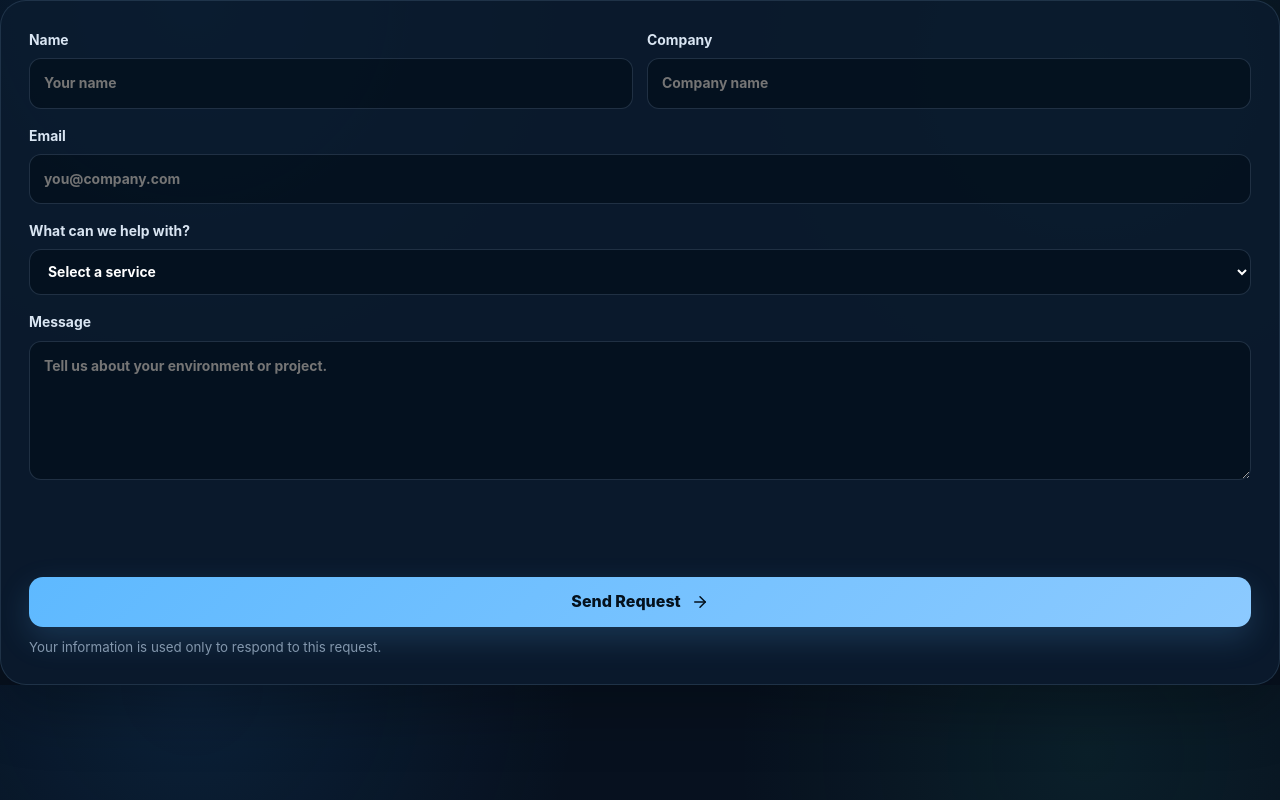
Test: ContactForm › blocks submission until CAPTCHA is complete
The image size is (1280, 800).
Type "Jane Smith" into the field labelled "Name" at coordinates (331, 83), box x1=29 y1=58 x2=633 y2=109
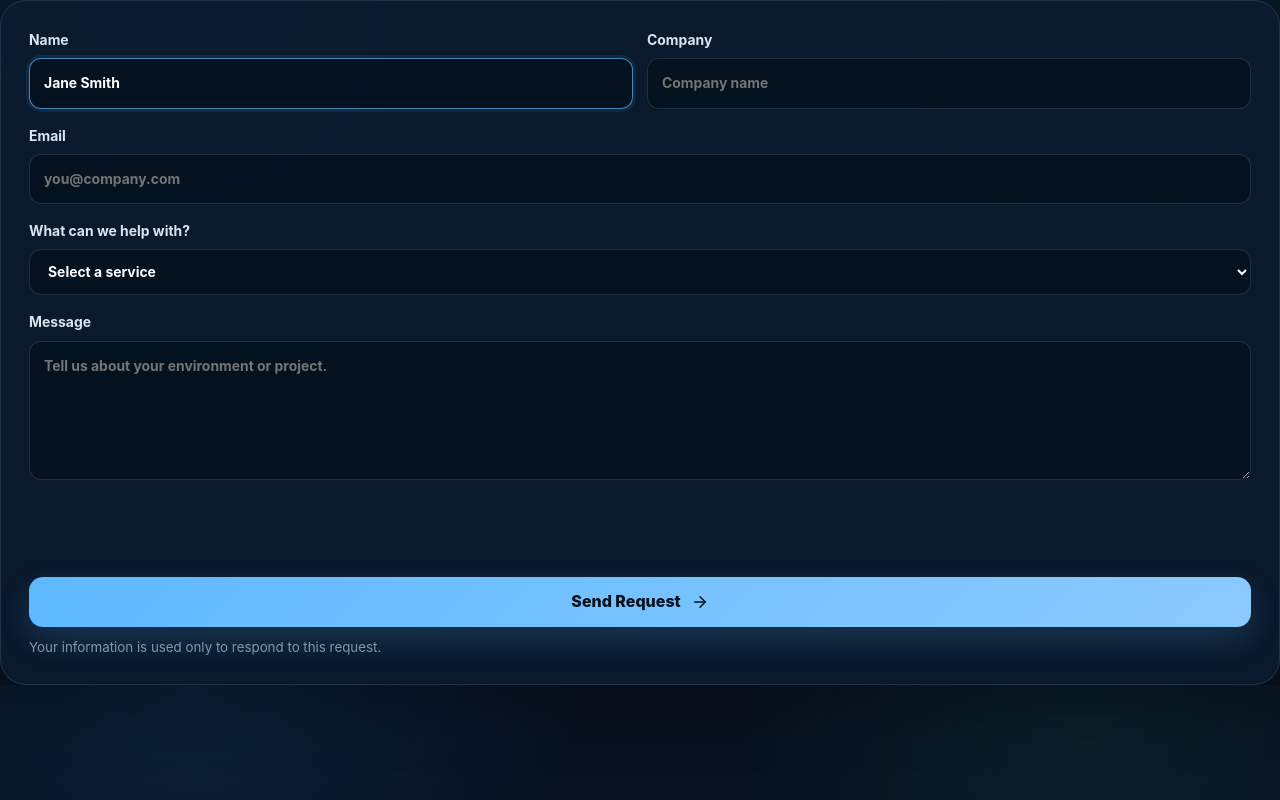
Type "Example Co" into the field labelled "Company" at coordinates (949, 83), box x1=647 y1=58 x2=1251 y2=109
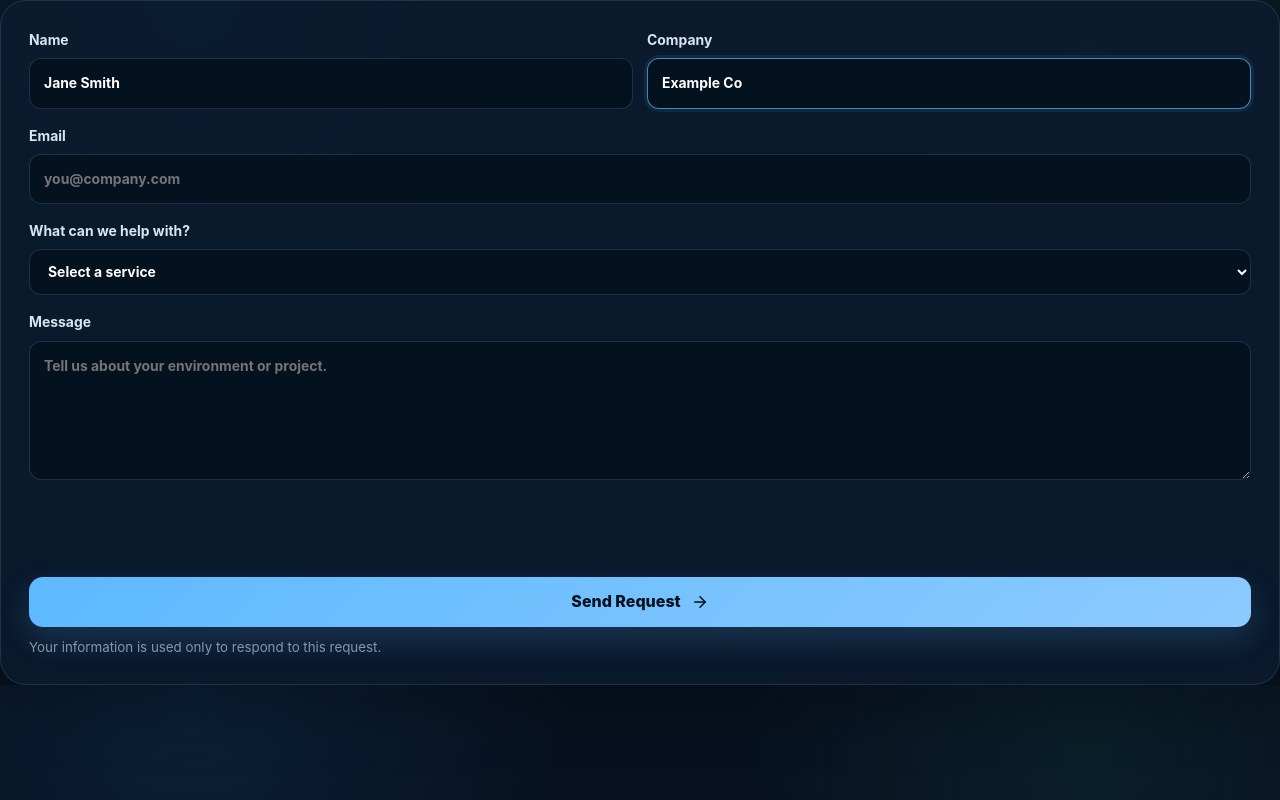
Type "jane@example.com" into the field labelled "Email" at coordinates (640, 179), box x1=29 y1=154 x2=1251 y2=204
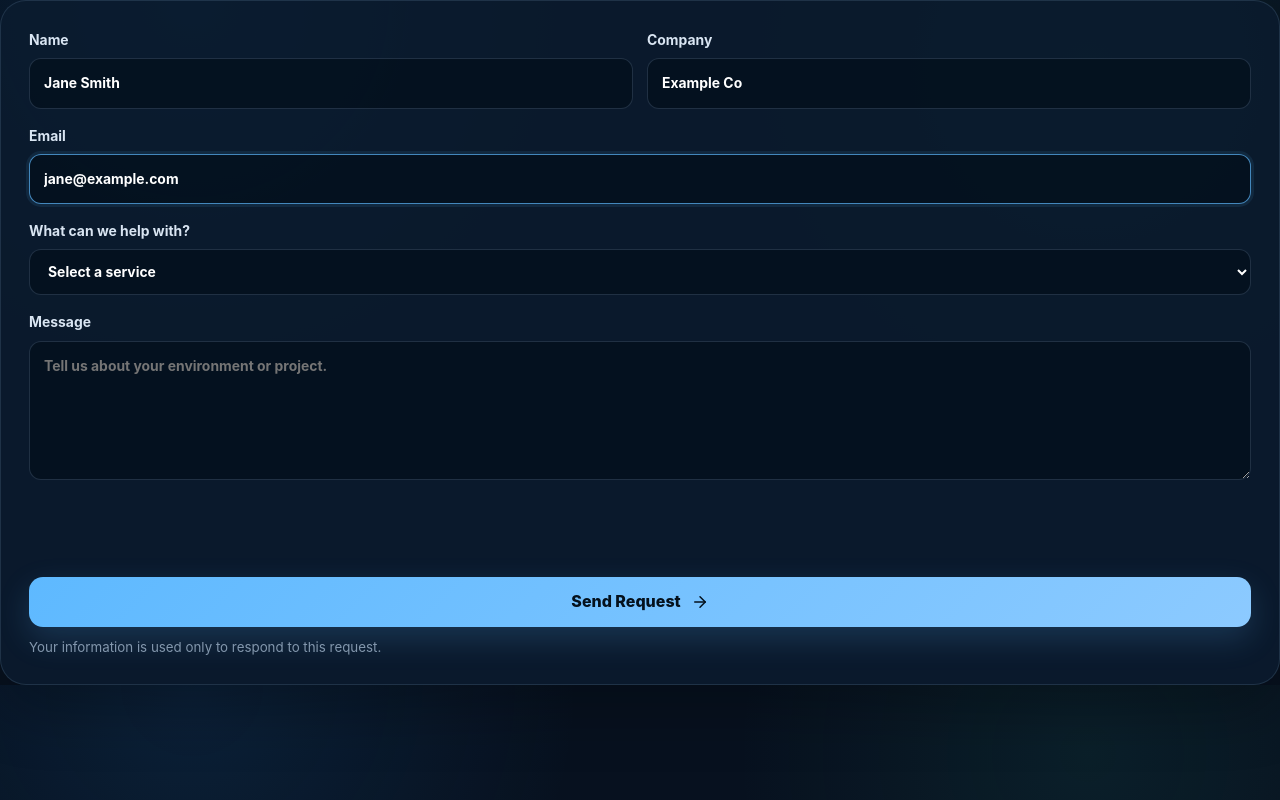
Select "Cloud Security" in the dropdown labelled "What can we help with?" at coordinates (640, 272), box x1=29 y1=249 x2=1251 y2=295
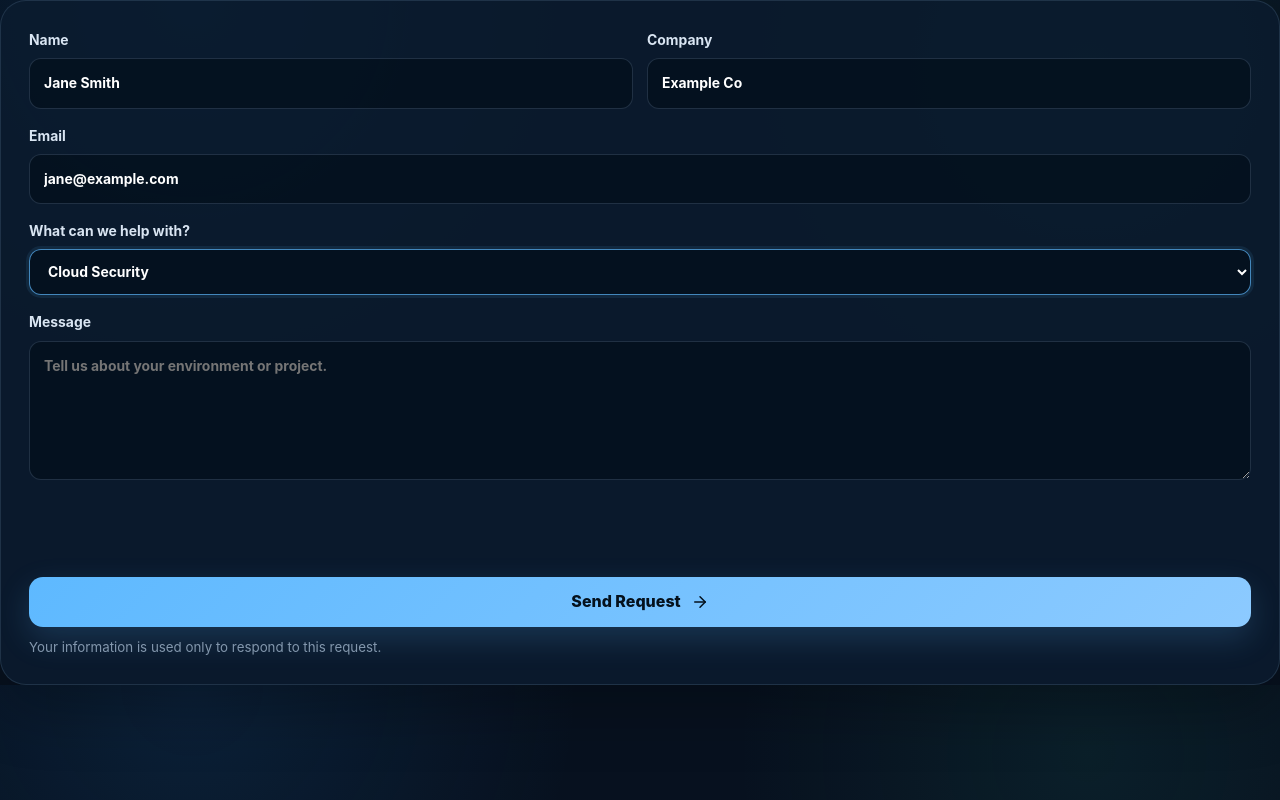
Type "Please review our AWS environment." into the text box labelled "Message" at coordinates (640, 410), box x1=29 y1=341 x2=1251 y2=480
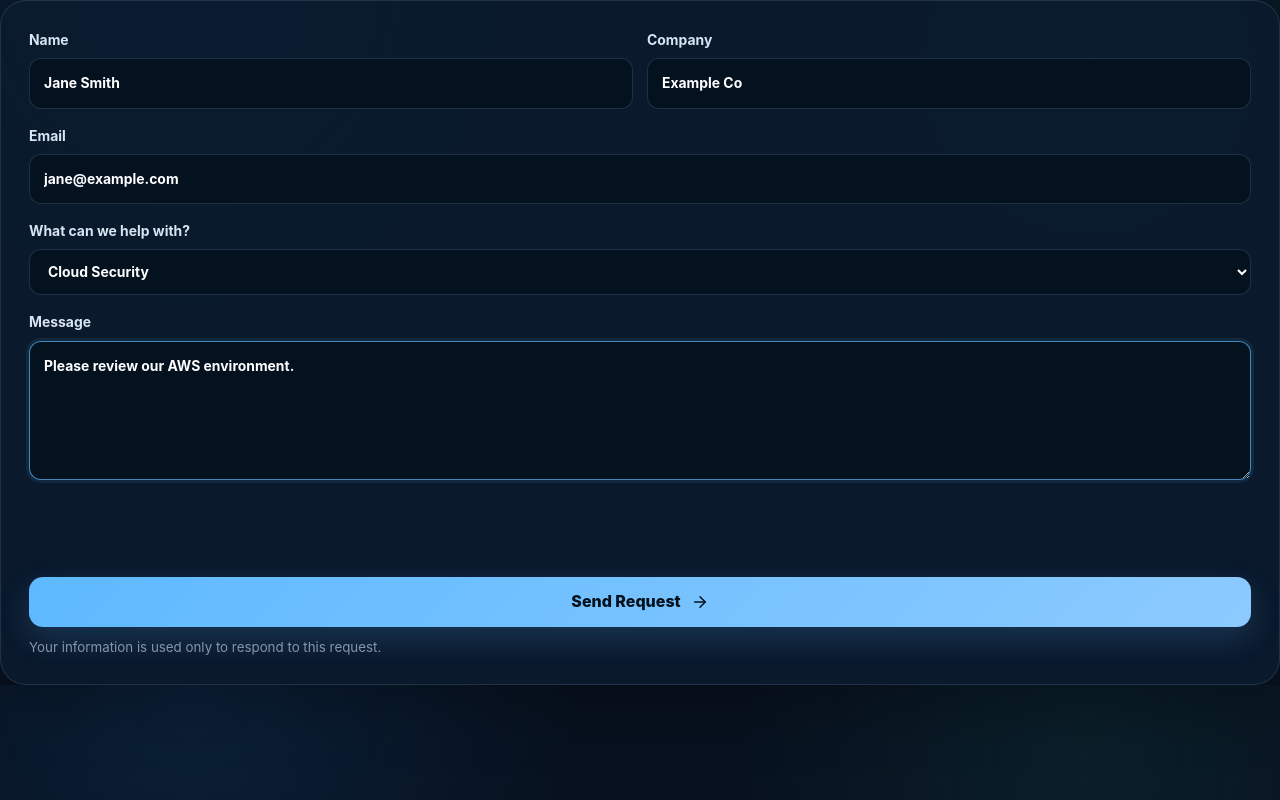
Click the button "Send Request" at coordinates (640, 602), box x1=29 y1=577 x2=1251 y2=627
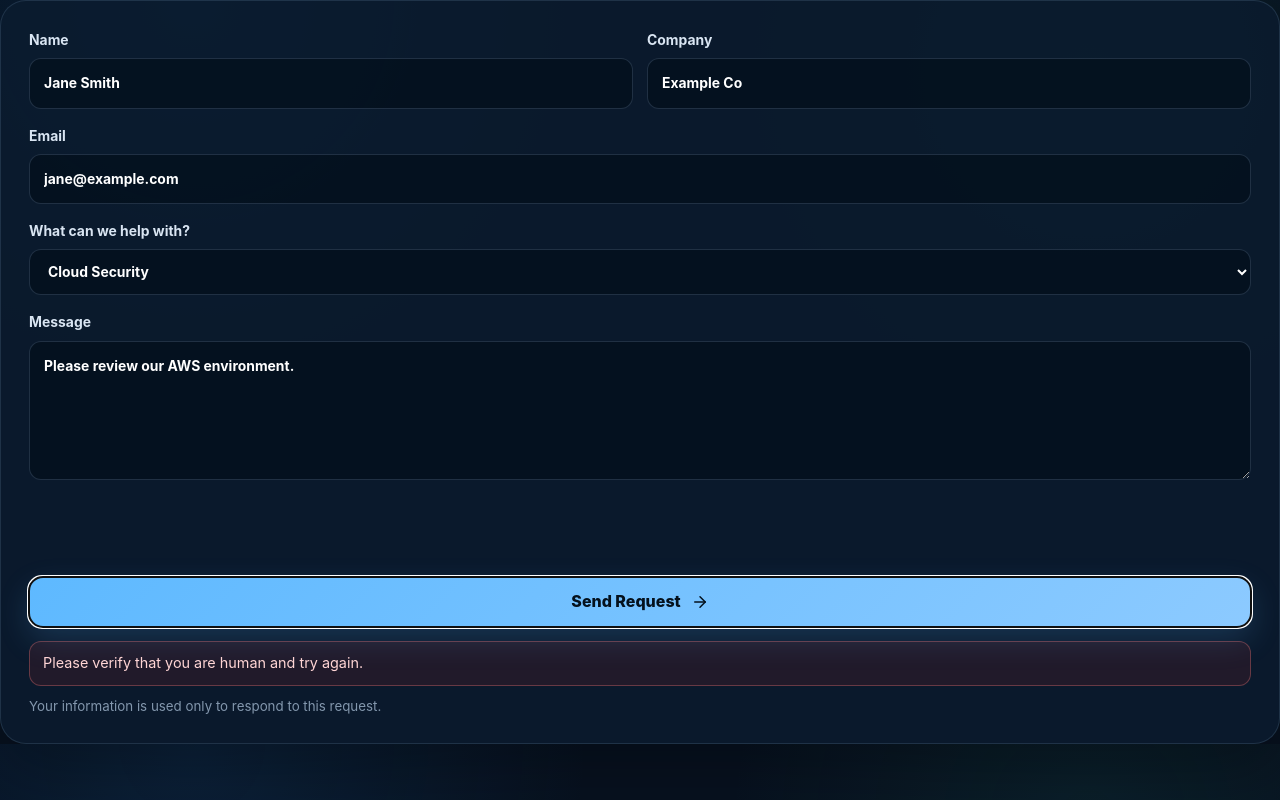
Check: the message shows "verify that you are human", box x1=43 y1=654 x2=363 y2=671
